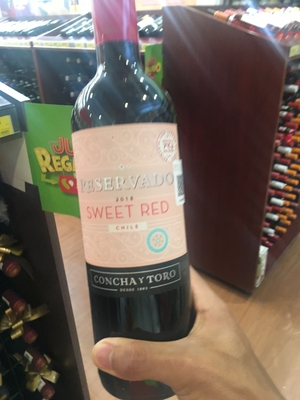reservado sweet red: (63, 18, 234, 388)
